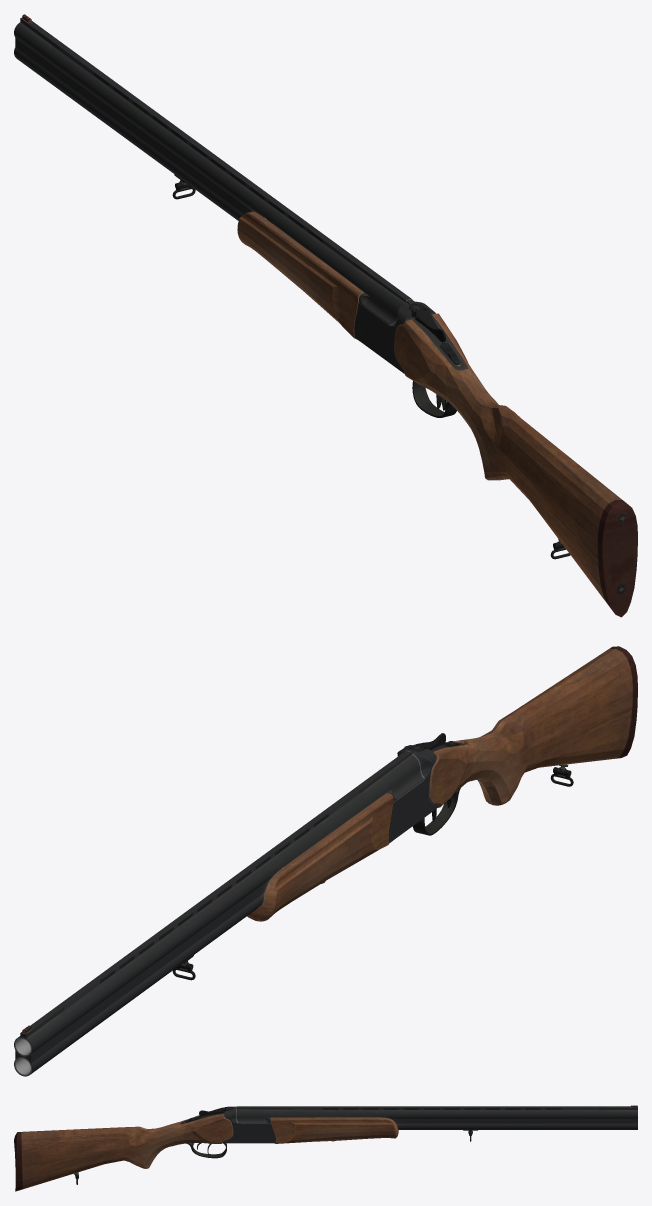
The picture shows the model from 3 angles, top to bottom: view 1: azimuth 30°, elevation 25°; view 2: azimuth 150°, elevation 25°; view 3: azimuth 270°, elevation 25°; orthographic projection. The views are drawn at different scales.
Bounding box in the file's own units: 0.0395 × 0.16 × 1.05.
Materials: 1 (1 with a texture image).
